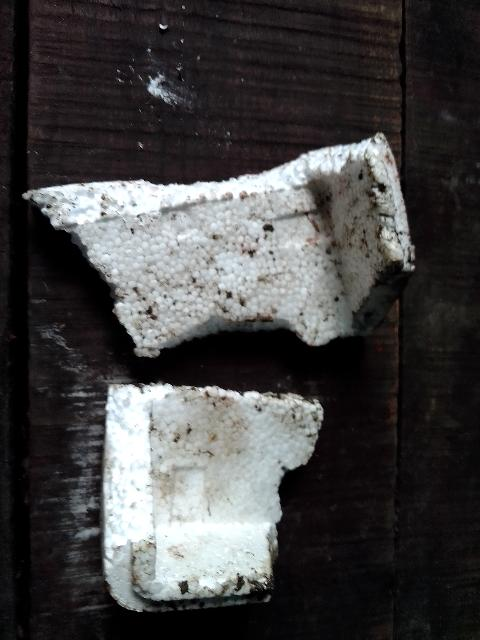cocksheet: (54, 127, 403, 365), (93, 389, 312, 625)
